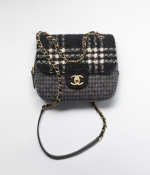channel: (33, 30, 131, 110), (66, 71, 89, 90), (55, 67, 64, 102)
